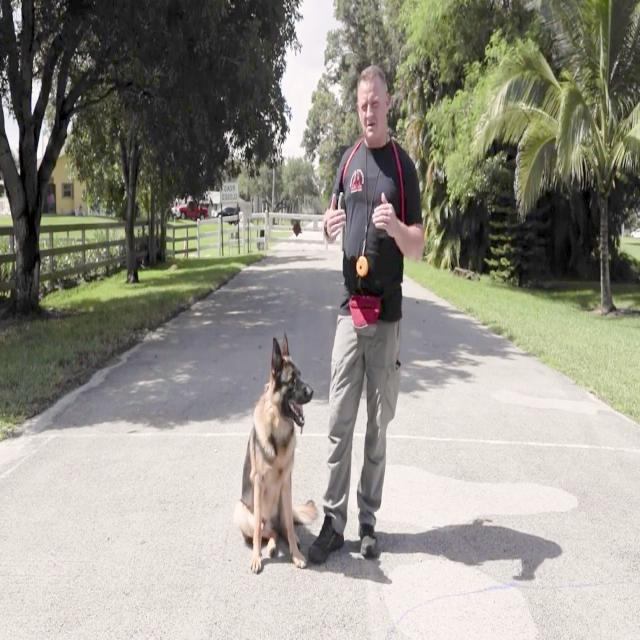Unleashed_Dog: (232, 320, 386, 574)
